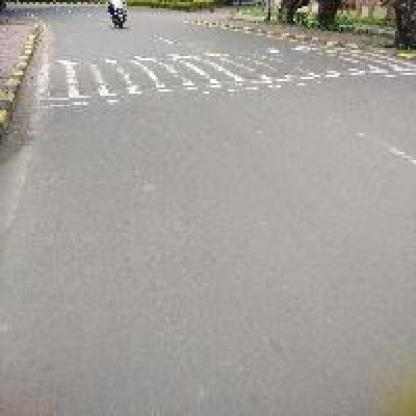Speed Bump: (37, 40, 412, 115)
